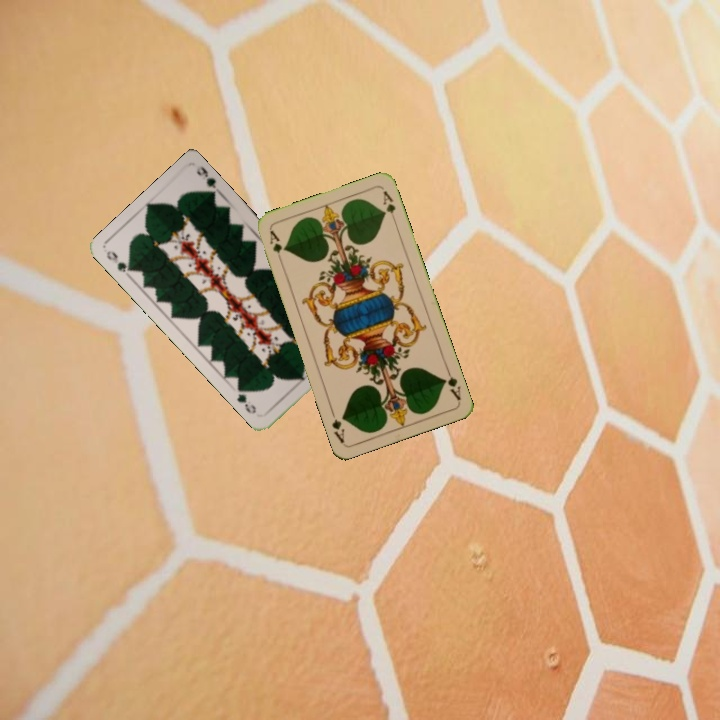G9: (102, 246, 137, 280)
GA: (439, 364, 463, 403), (266, 226, 286, 266)
